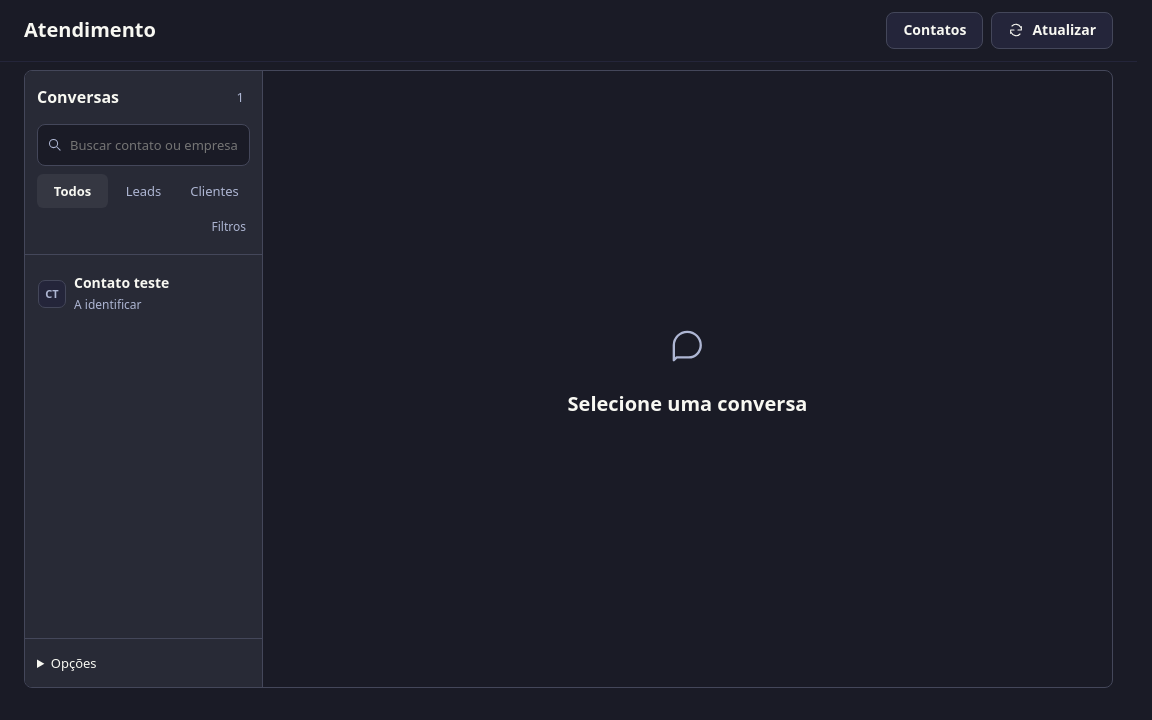
assumir recusado fica visível mesmo com recarga bem sucedida e sem feedback externo
Click the button with test id "conversa-cv" at (144, 294), box [30,262,257,325]
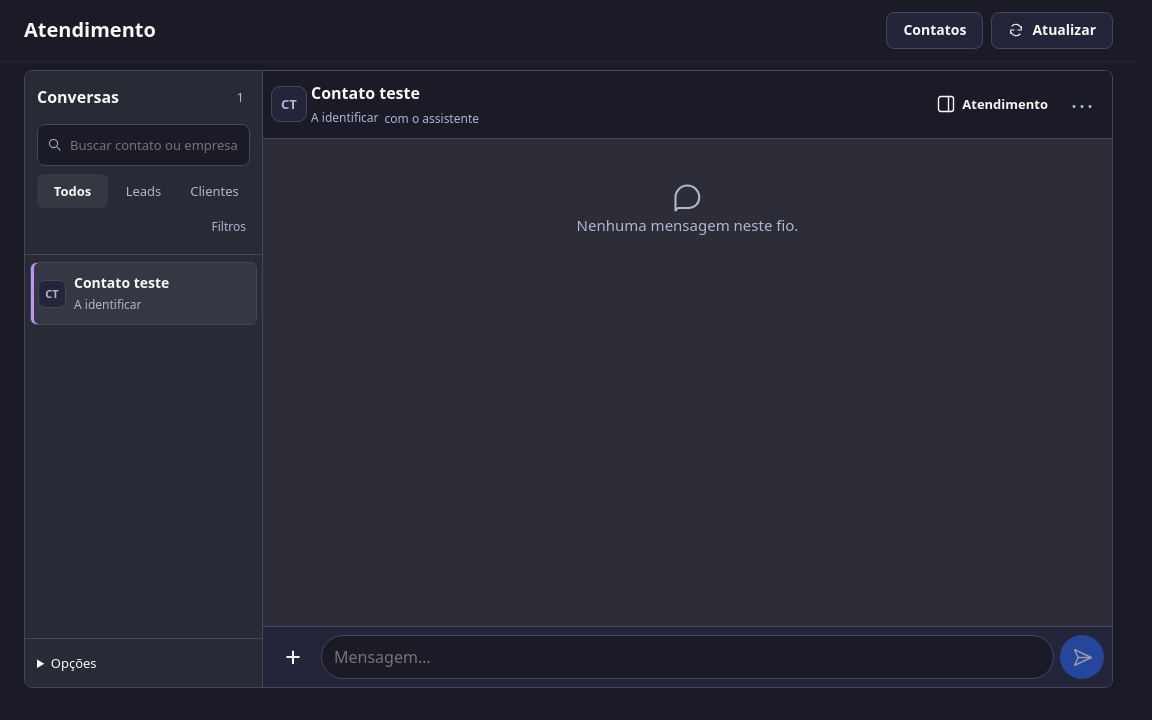
Click the heading named "Mais ações da conversa" at (1082, 104), box [1070,88,1094,121]
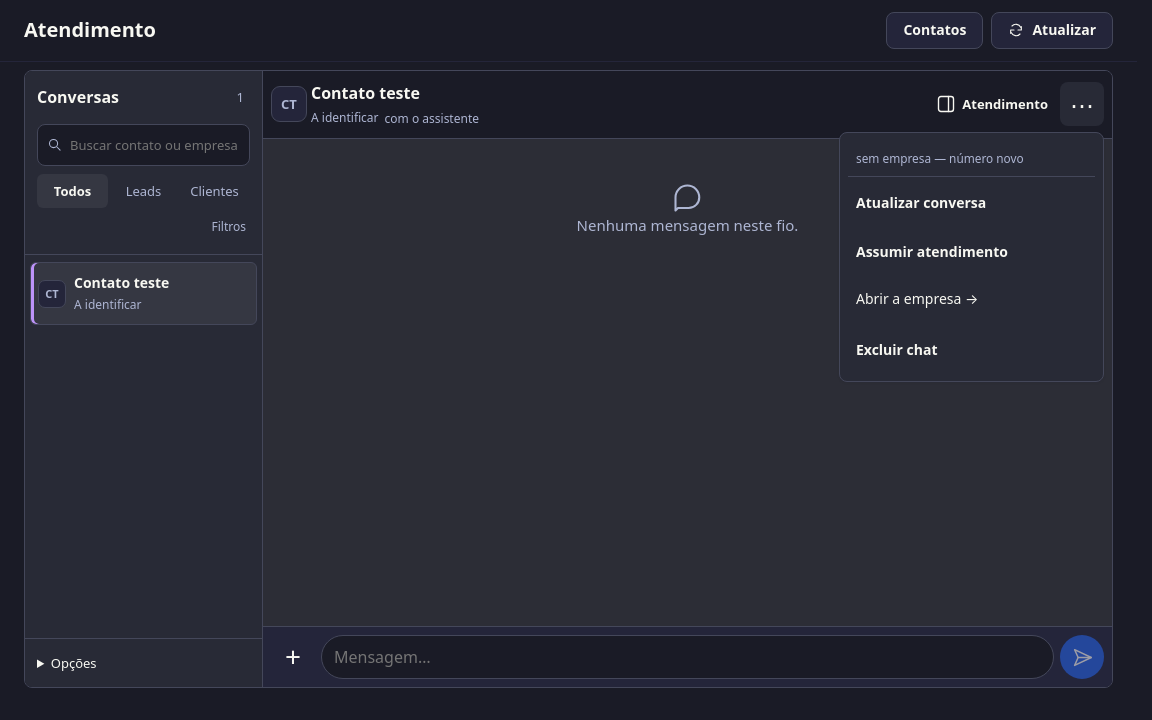
Click the button "Assumir atendimento" at (972, 253), box [848,231,1095,275]
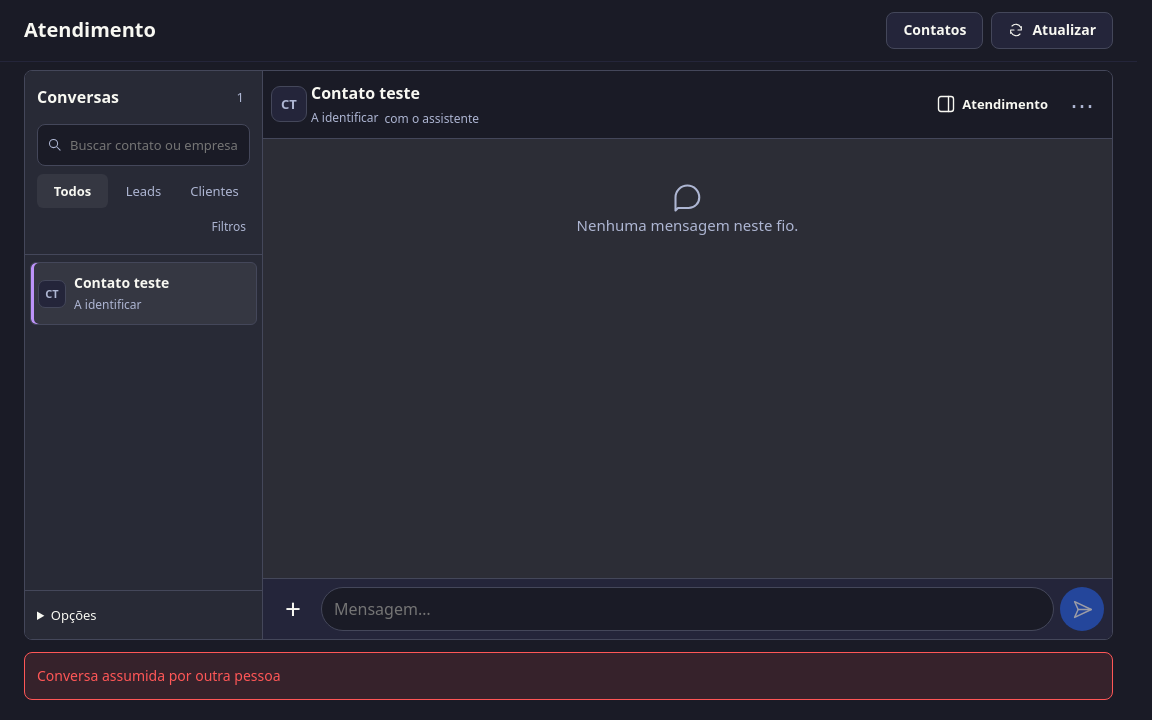
Now the message reads "Conversa assumida por outra pessoa", box [37,666,281,685]
